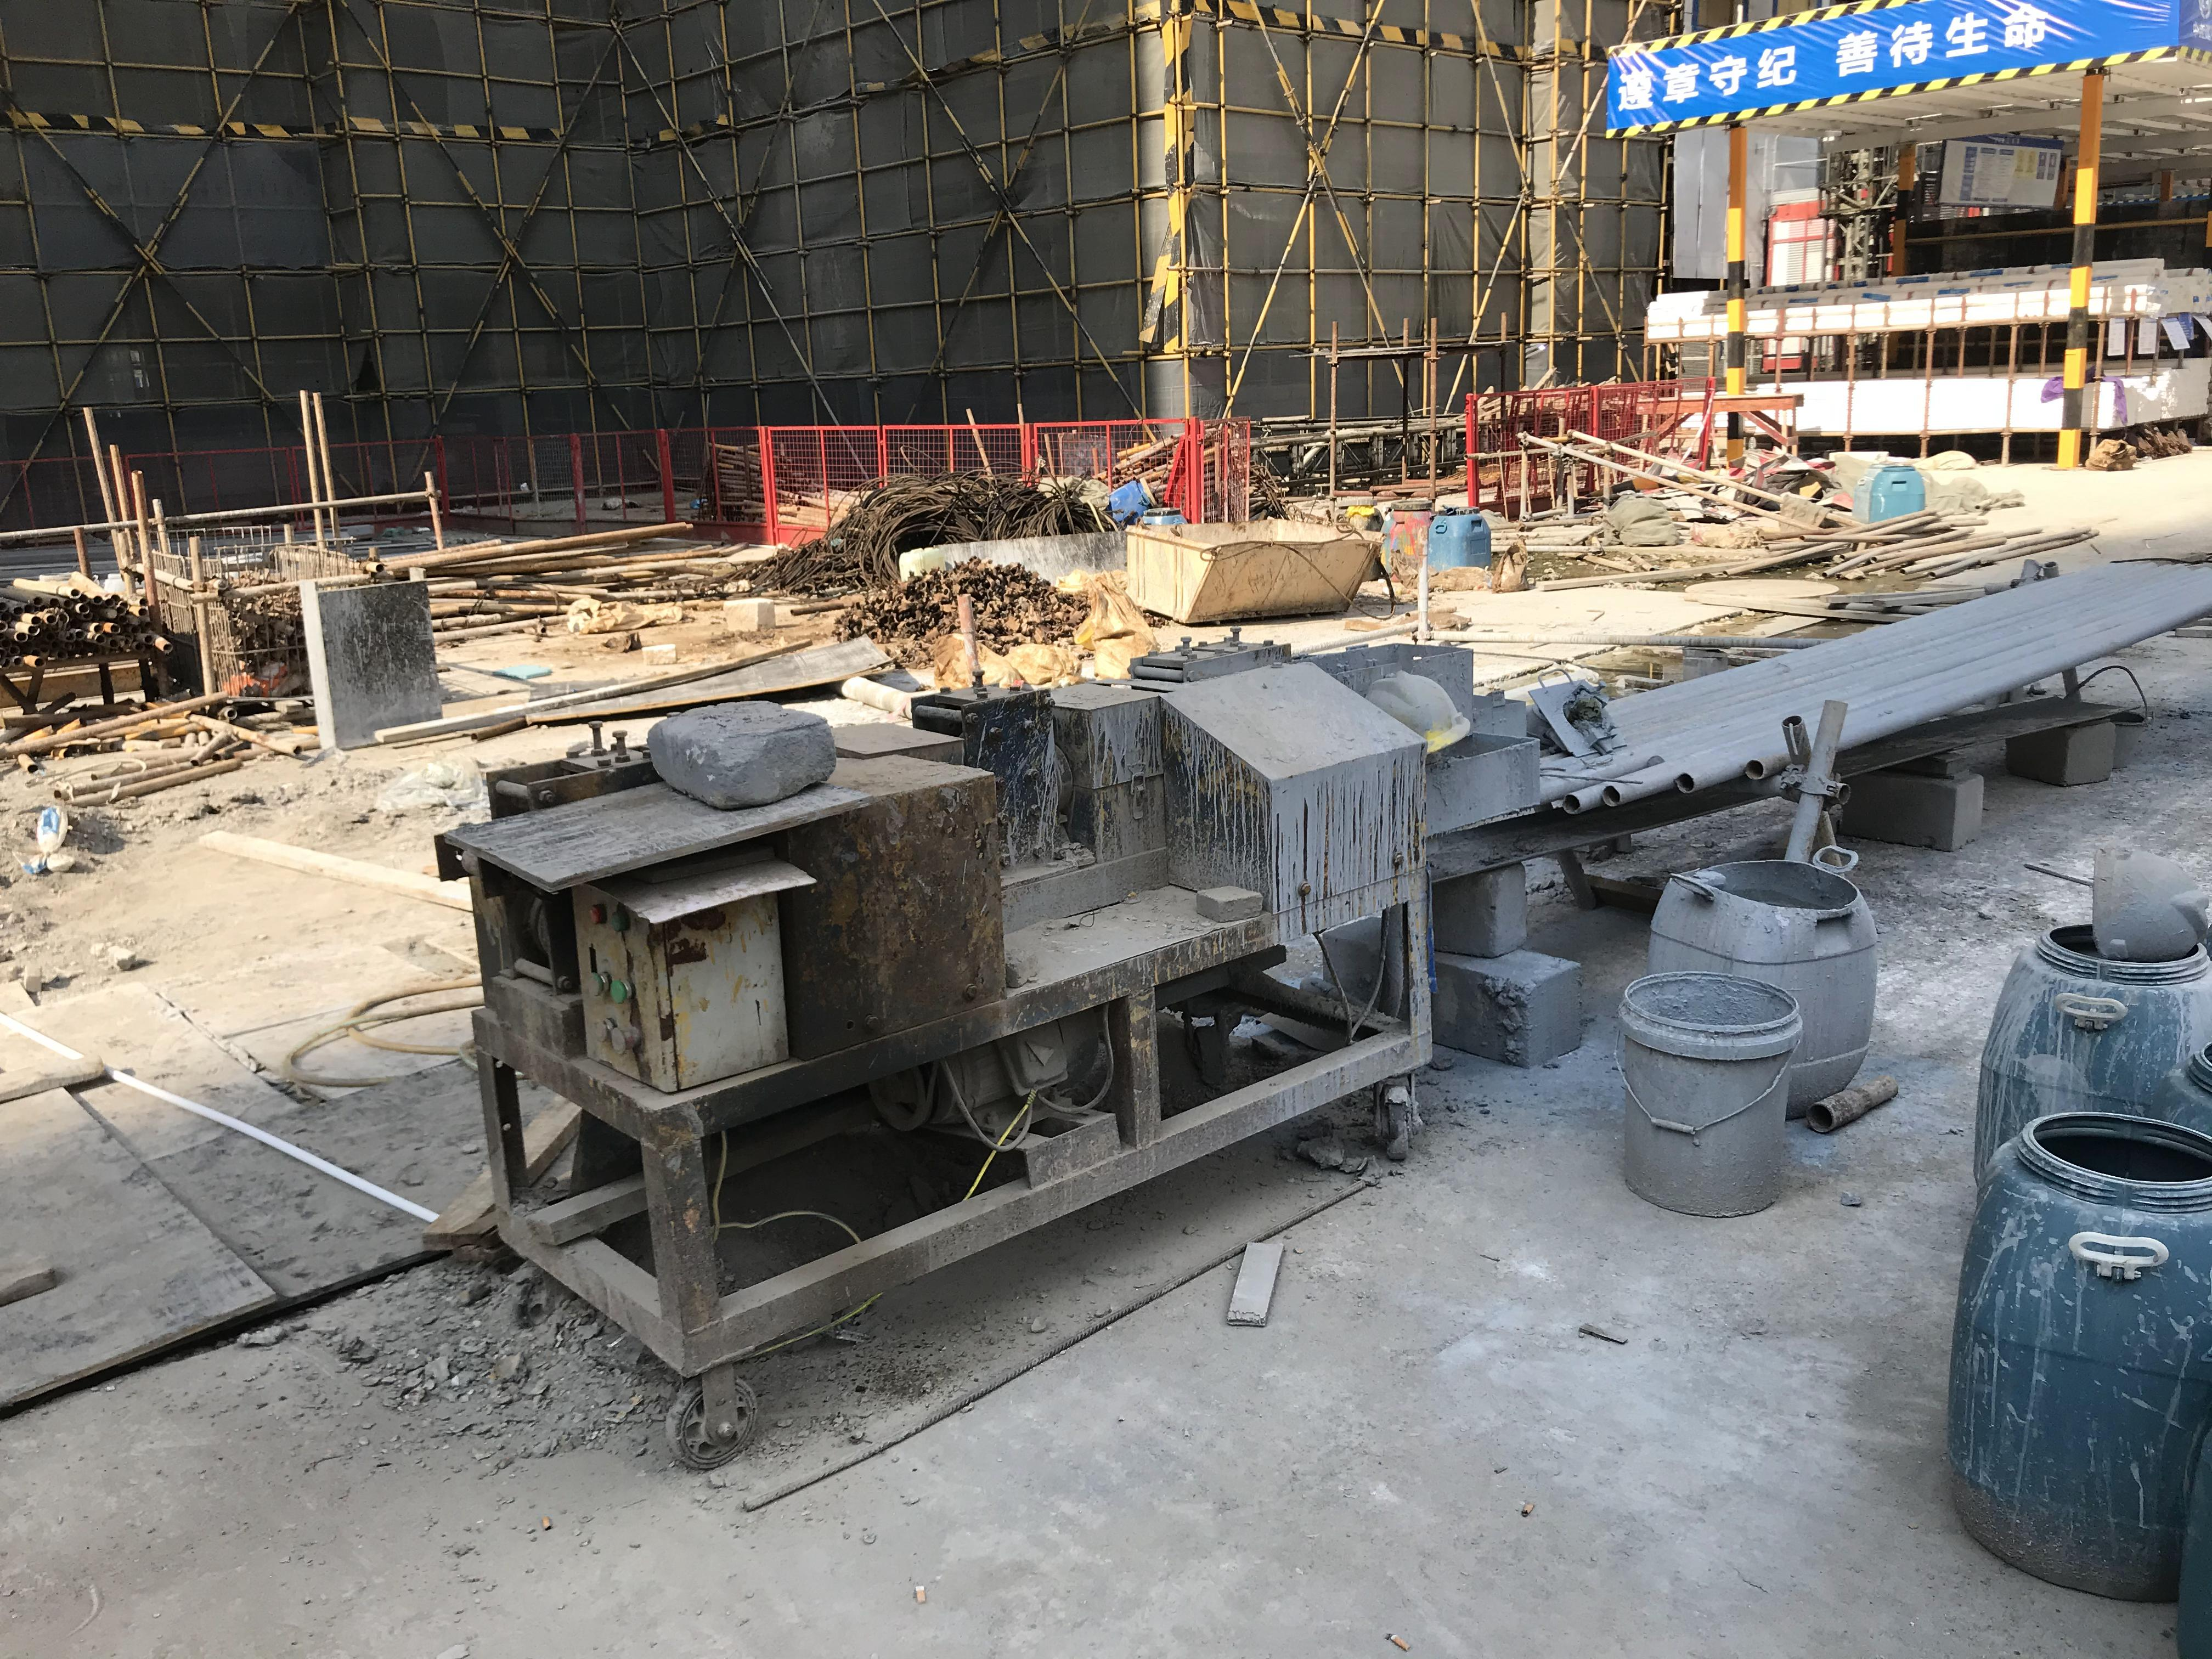cutter: (439, 662, 1420, 1471)
fence: (423, 432, 756, 551), (754, 427, 1198, 497), (1474, 385, 1705, 495), (1191, 420, 1254, 519)
hopper: (1125, 523, 1386, 622)
slogan: (1609, 0, 2167, 138)
